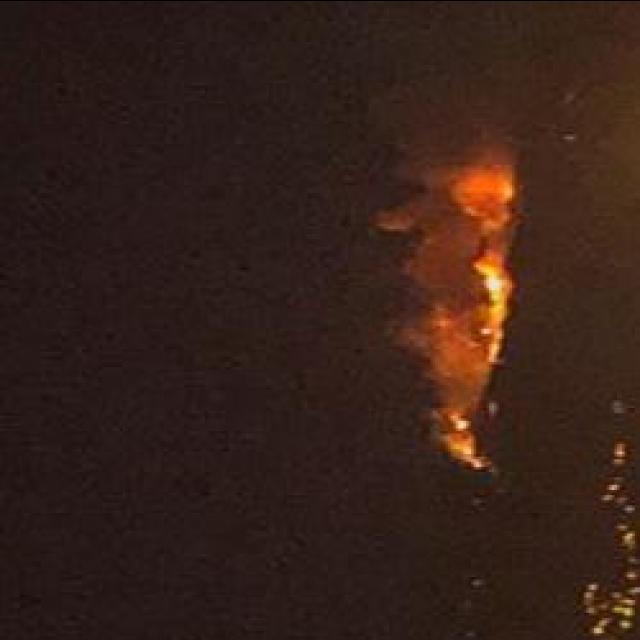fire: (482, 256, 516, 330)
smoke: (437, 178, 515, 242), (395, 326, 482, 370)
